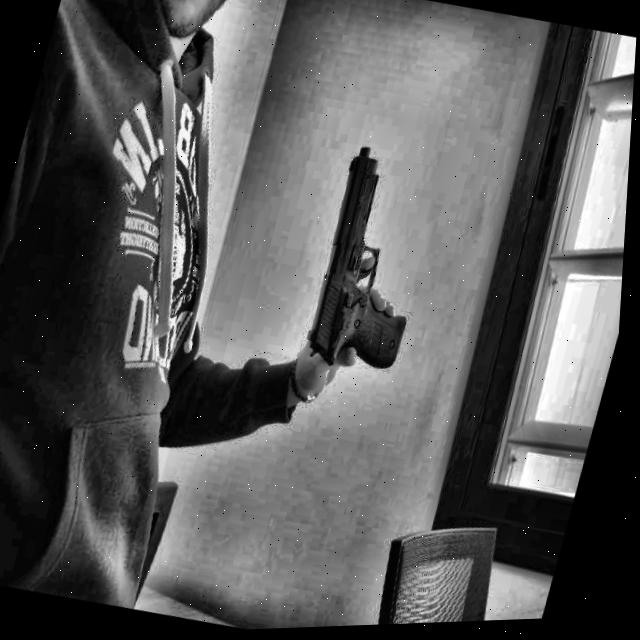pistol: (291, 141, 419, 389)
